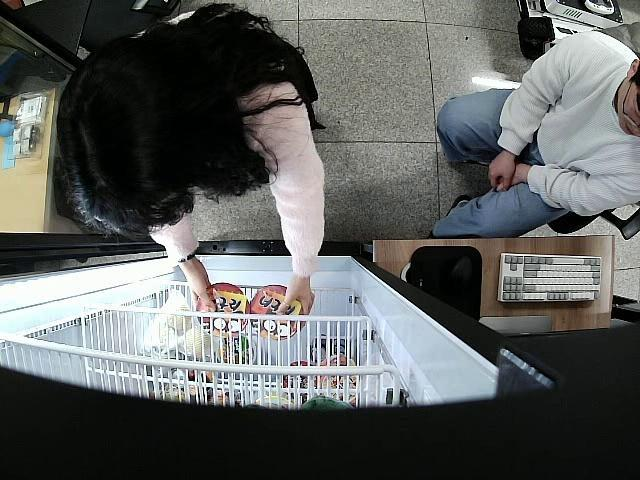05_nuguri_L: (248, 286, 303, 340), (199, 282, 250, 338)
